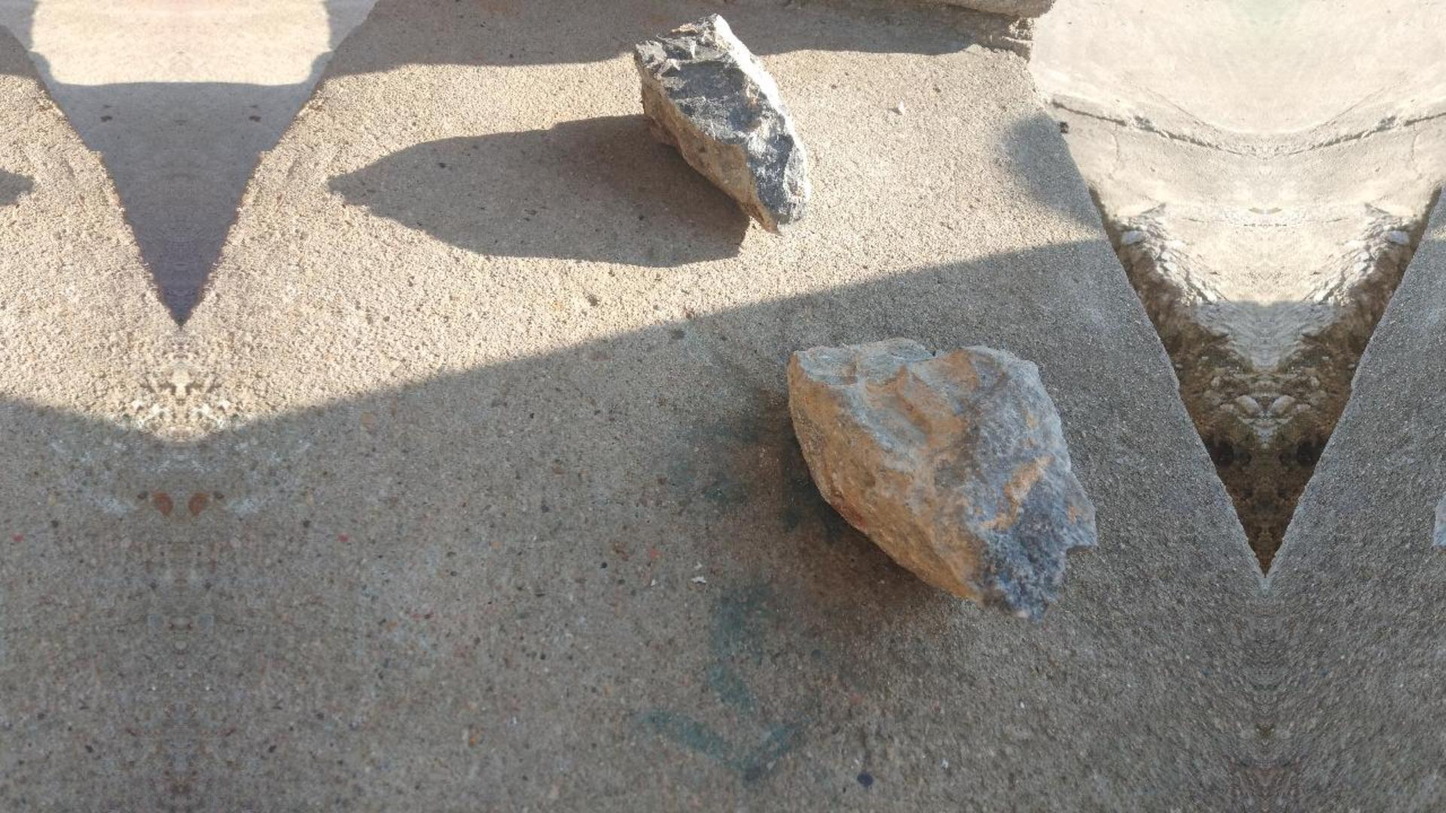rock: (787, 339, 1096, 619), (634, 14, 810, 230), (1432, 490, 1445, 550)
